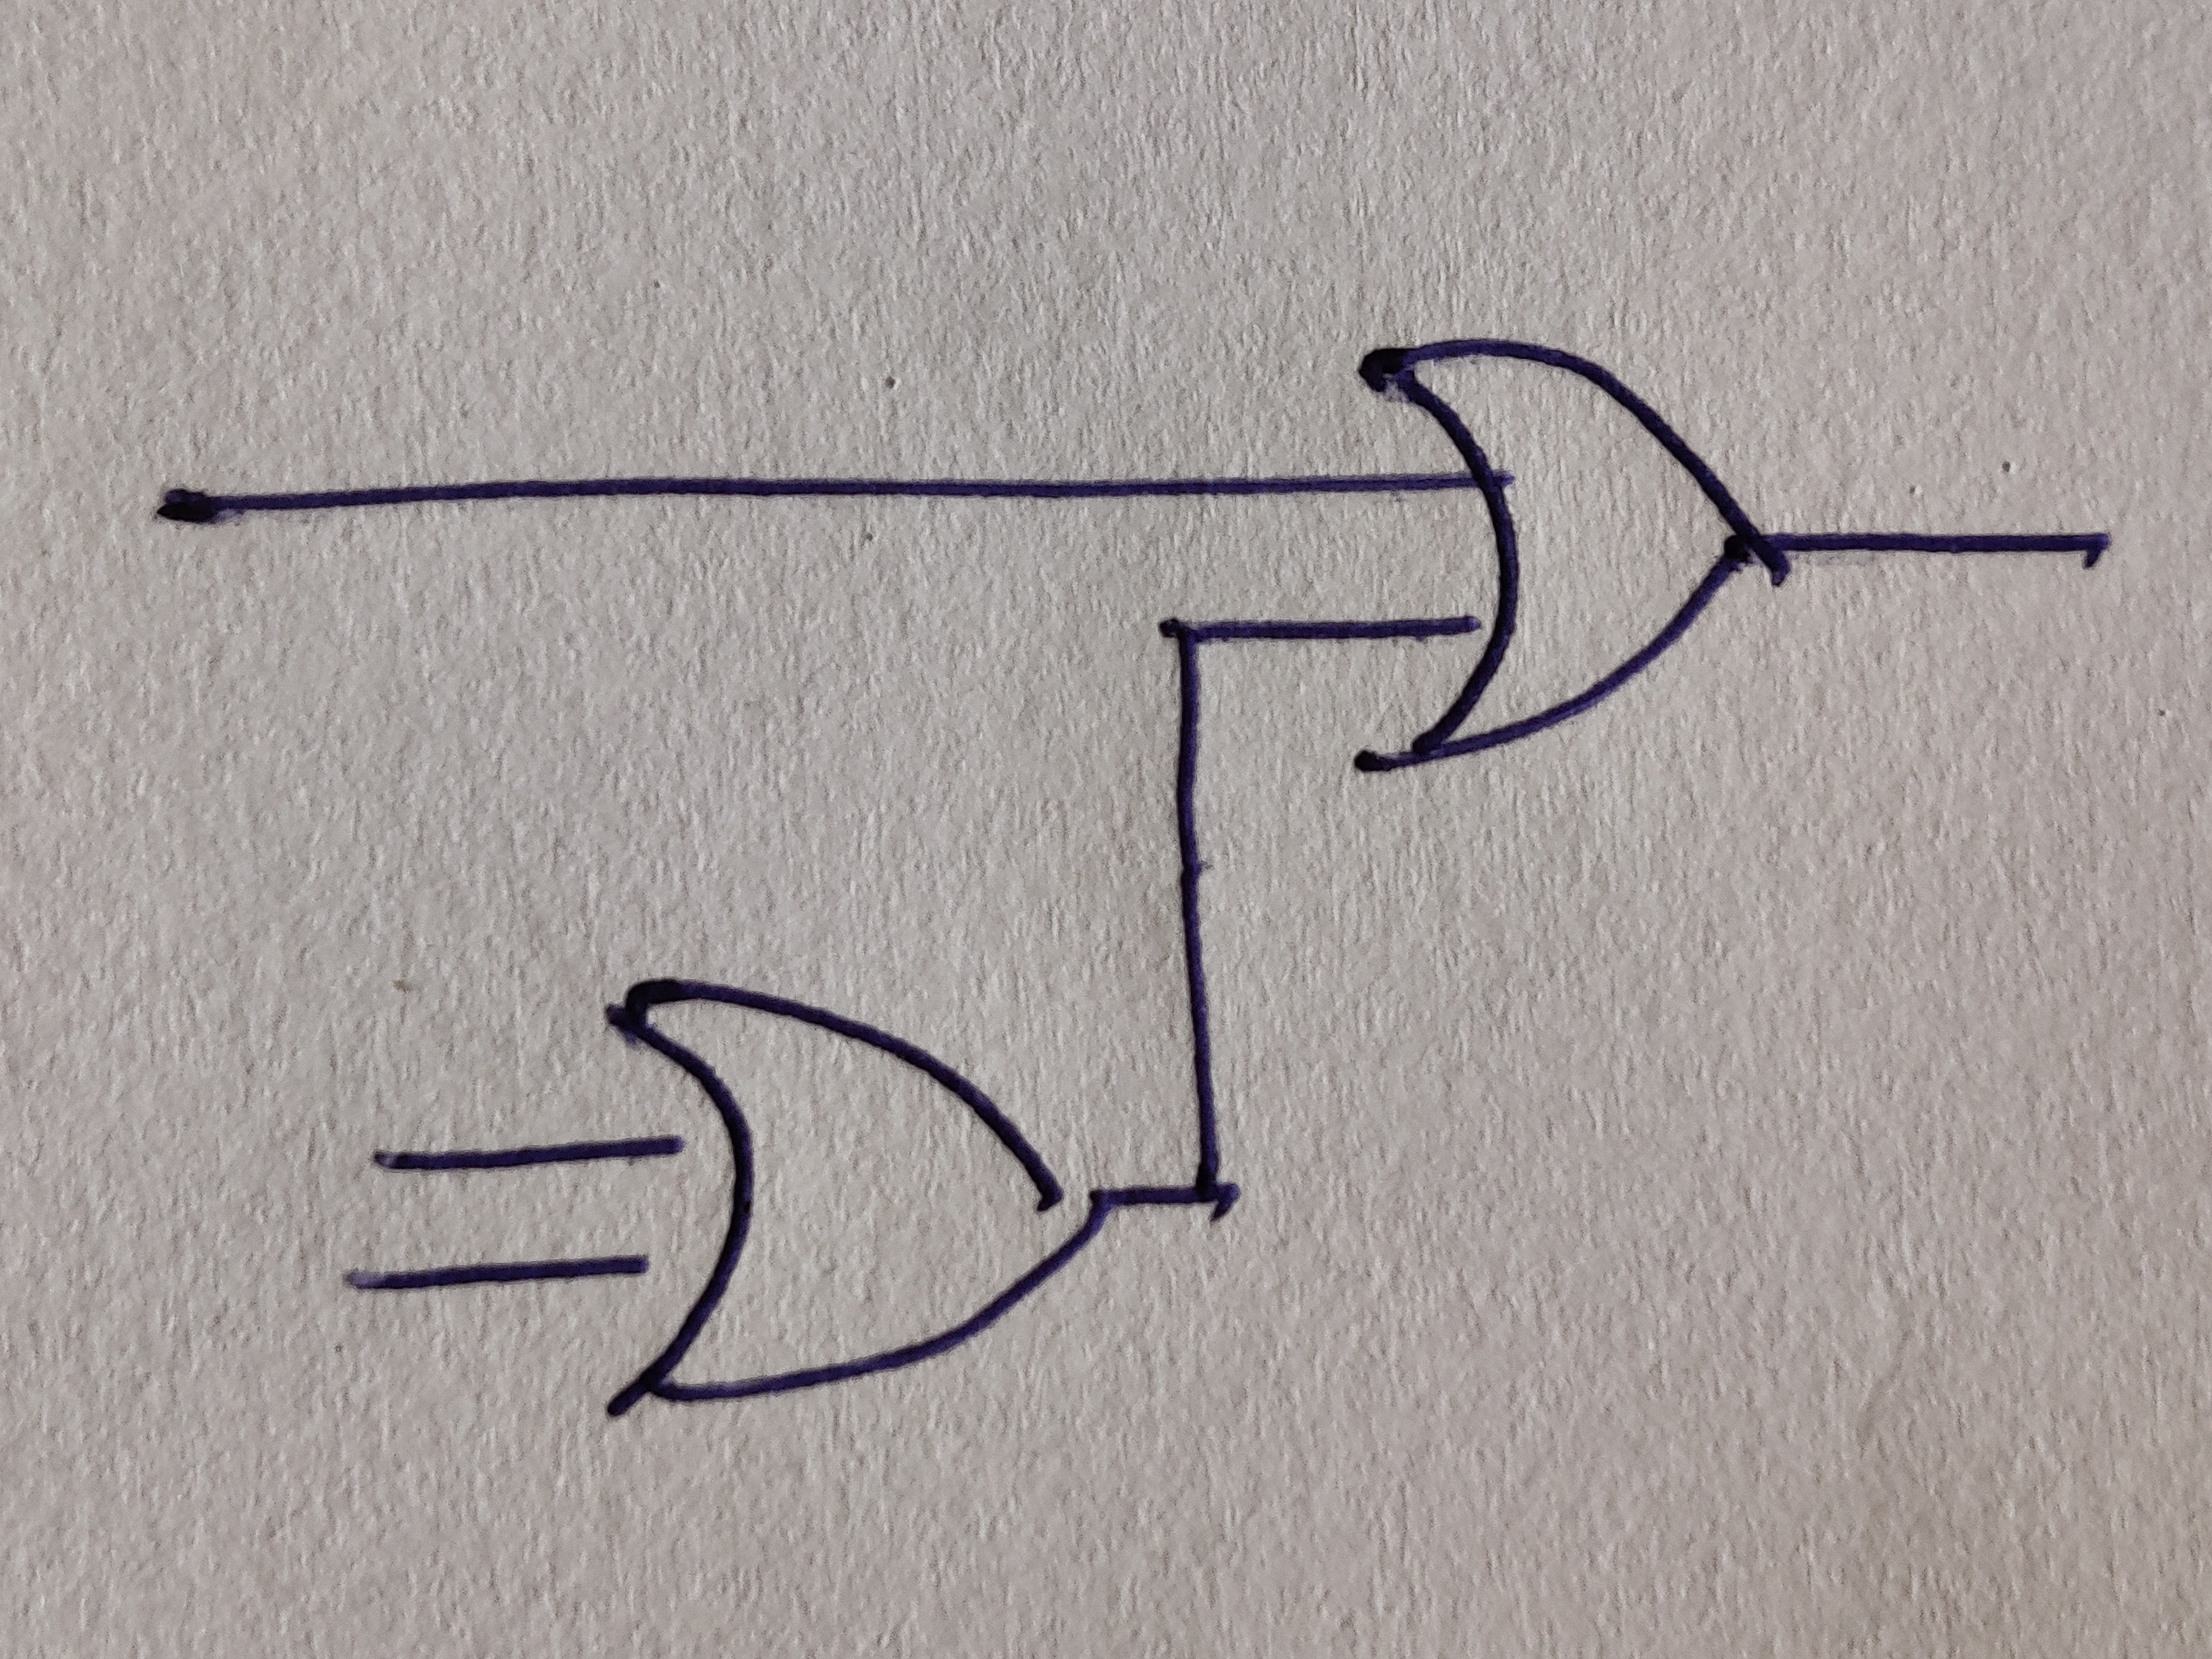or: (608, 979, 1116, 1419), (1353, 338, 1789, 774)
